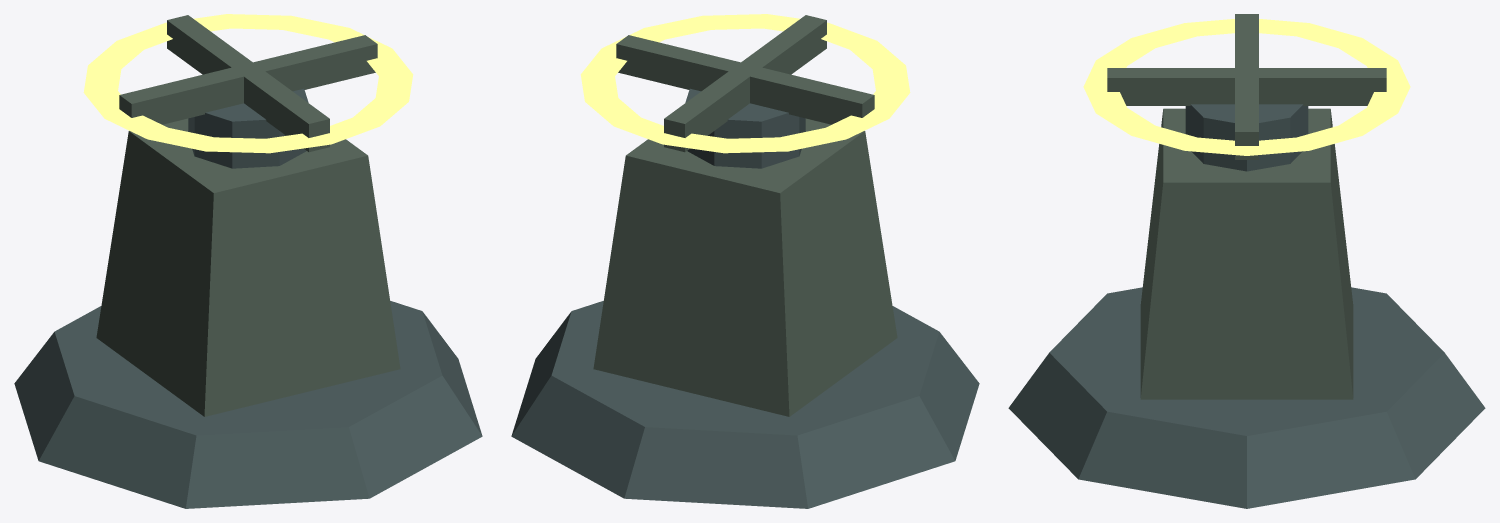
File: DrainValve.glb
3 renders of one model, left to right at view 1: azimuth 30°, elevation 25°; view 2: azimuth 150°, elevation 25°; view 3: azimuth 270°, elevation 25°, orthographic.
Visible parts, largest first — view 1: SM_BOSS_DrainValve; view 2: SM_BOSS_DrainValve; view 3: SM_BOSS_DrainValve.
Part boxes in pixels (x1,y1,x2,y2): SM_BOSS_DrainValve: [14, 14, 482, 508]; SM_BOSS_DrainValve: [511, 14, 979, 508]; SM_BOSS_DrainValve: [1008, 14, 1485, 508].
Size of the model in its own units: 1.4 by 1.09 by 1.4.
